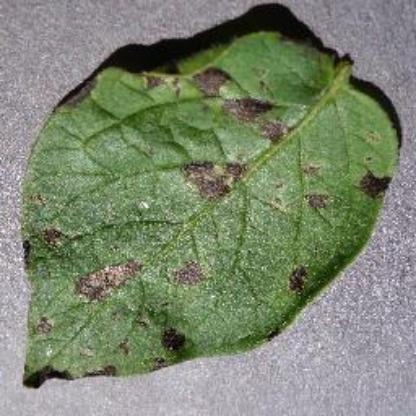Early-Blight: (24, 20, 402, 392)
